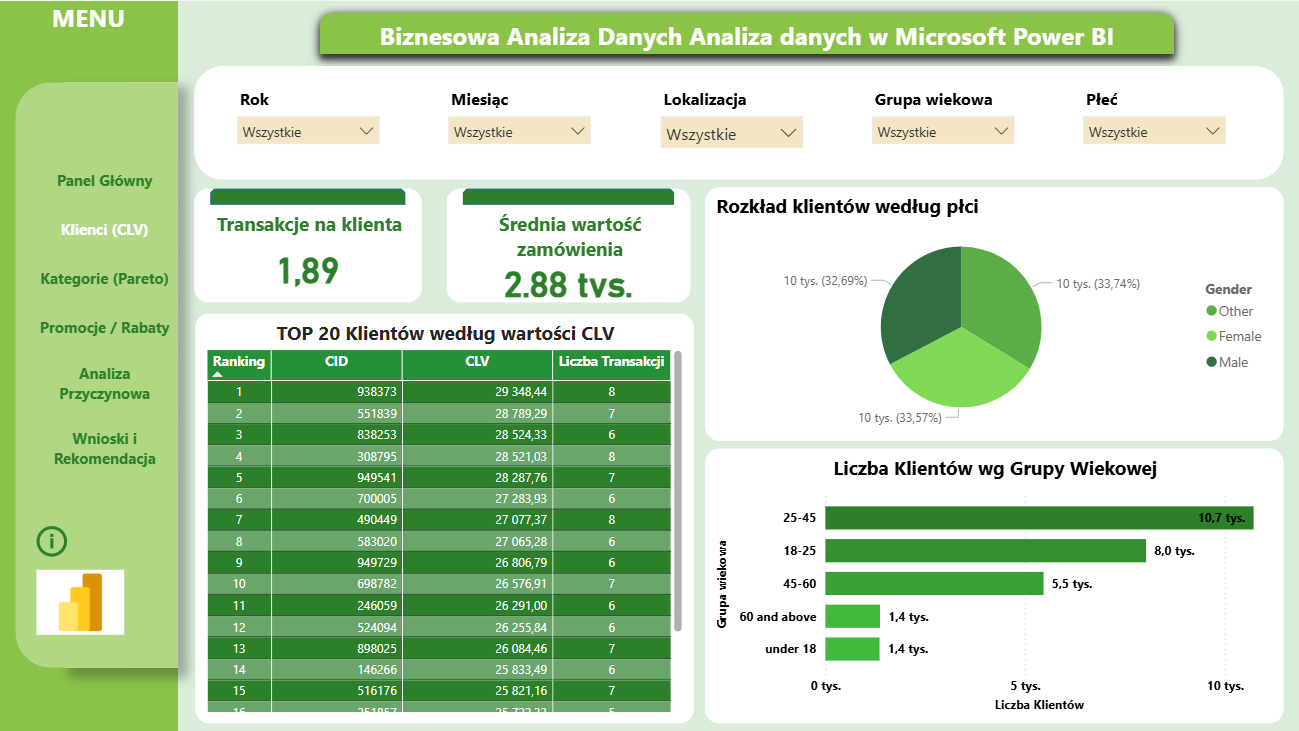

The dashboard page shown, as its layout file describes it:
{"tool":"powerbi","page":{"name":"Klienci (CLV)","canvas":[1280,720],"ordinal":2},"visuals":[{"type":"shape","title":"MENU","box":[0,0,176,720],"z":0,"group":"g2"},{"type":"shape","title":"naglowek","box":[304,0,864,64],"z":0},{"type":"actionButton","title":"Wnioski i Rekomendacja","box":[32,416,144,48],"z":0,"group":"g1"},{"type":"shape","title":"filtry","box":[192,64,1072,112],"z":1000},{"type":"shape","title":"boczny pasek2","box":[64,80,112,576],"z":1000,"group":"g2"},{"type":"actionButton","title":"insight","box":[32,352,144,48],"z":1000,"group":"g1"},{"type":"shape","title":"boczny pasek1","box":[16,80,144,576],"z":2000,"group":"g2"},{"type":"slicer","title":"kategoria prouktu","fields":{"Values":["Klient.Gender"]},"box":[1056,80,160,80],"z":2000},{"type":"actionButton","title":"promocje i rabaty","box":[32,304,144,32],"z":2000,"group":"g1"},{"type":"slicer","title":"lokalizacja","fields":{"Values":["Lokalizacja.Location"]},"box":[640,80,160,80],"z":3000},{"type":"actionButton","title":"Pereto","box":[32,256,144,32],"z":3000,"group":"g1"},{"type":"image","title":"logo","box":[32,544,96,96],"z":3000,"group":"g2"},{"type":"slicer","title":"miesiac","fields":{"Values":["Kalendarz.MonthName"]},"box":[432,80,160,80],"z":4000},{"type":"group","id":"g1","title":"strony","box":[32,160,144,392],"z":4000,"group":"g2"},{"type":"actionButton","title":"klienci","box":[32,208,144,32],"z":4000,"group":"g1"},{"type":"slicer","title":"rok","fields":{"Values":["Kalendarz.Year"]},"box":[224,80,160,80],"z":5000},{"type":"actionButton","title":"Panel","box":[32,160,144,32],"z":5000,"group":"g1"},{"type":"slicer","title":"Rabat","fields":{"Values":["Klient.Age Group"]},"box":[848,80,160,80],"z":6000},{"type":"actionButton","title":"info","box":[32,512,40,40],"z":6000,"group":"g1"},{"type":"card","title":"Średnia wartość zamówienia ","fields":{"Values":["Sprzedaz.Średnia wartość zamówienia"]},"box":[440,184,240,112],"z":7000},{"type":"shape","title":"nakladka na kpi","box":[456,184,208,16],"z":8000},{"type":"card","title":"Transakcje na klienta","fields":{"Values":["Sprzedaz.Transakcje na Klienta"]},"box":[192,184,224,112],"z":9000},{"type":"shape","title":"nakladka na kpi","box":[208,184,192,16],"z":10000},{"type":"group","id":"g2","title":"Menu","box":[0,0,176,720],"z":11000},{"type":"pieChart","title":"Rozkład klientów według płci","fields":{"Category":["Klient.Gender"],"Y":["Sprzedaz.Liczba Klientów"]},"box":[694.5,183.2,569.1,249.7],"z":12000},{"type":"tableEx","title":"TOP 20 Klientów według wartości CLV","fields":{"Values":["Sprzedaz.Ranking","Sprzedaz.CID","Sprzedaz.CLV","Sprzedaz.Liczba Transakcji"]},"box":[193,307.5,490.6,403.4],"z":13000},{"type":"barChart","title":"Liczba Klientów wg Grupy Wiekowej","fields":{"Category":["Klient.Age Group"],"Y":["Sprzedaz.Liczba Klientów"]},"box":[694.5,440.5,569.1,270.4],"z":14000}]}

Visuals, with their boxes in screenshot pixels (x1, y1, x2, y2), scaled from the page's 1280x720 canvas onto the 1299x731 screenshot:
"MENU" shape: [left=0, top=0, right=179, bottom=730]
"naglowek" shape: [left=309, top=0, right=1185, bottom=65]
"Wnioski i Rekomendacja" actionButton: [left=32, top=422, right=179, bottom=471]
"filtry" shape: [left=195, top=65, right=1283, bottom=179]
"boczny pasek2" shape: [left=65, top=81, right=179, bottom=666]
"insight" actionButton: [left=32, top=357, right=179, bottom=406]
"boczny pasek1" shape: [left=16, top=81, right=162, bottom=666]
"kategoria prouktu" slicer: [left=1072, top=81, right=1234, bottom=162]
"promocje i rabaty" actionButton: [left=32, top=309, right=179, bottom=341]
"lokalizacja" slicer: [left=650, top=81, right=812, bottom=162]
"Pereto" actionButton: [left=32, top=260, right=179, bottom=292]
"logo" image: [left=32, top=552, right=130, bottom=650]
"miesiac" slicer: [left=438, top=81, right=601, bottom=162]
"strony" group: [left=32, top=162, right=179, bottom=560]
"klienci" actionButton: [left=32, top=211, right=179, bottom=244]
"rok" slicer: [left=227, top=81, right=390, bottom=162]
"Panel" actionButton: [left=32, top=162, right=179, bottom=195]
"Rabat" slicer: [left=861, top=81, right=1023, bottom=162]
"info" actionButton: [left=32, top=520, right=73, bottom=560]
"Średnia wartość zamówienia " card: [left=447, top=187, right=690, bottom=301]
"nakladka na kpi" shape: [left=463, top=187, right=674, bottom=203]
"Transakcje na klienta" card: [left=195, top=187, right=422, bottom=301]
"nakladka na kpi" shape: [left=211, top=187, right=406, bottom=203]
"Menu" group: [left=0, top=0, right=179, bottom=730]
"Rozkład klientów według płci" pieChart: [left=705, top=186, right=1282, bottom=440]
"TOP 20 Klientów według wartości CLV" tableEx: [left=196, top=312, right=694, bottom=722]
"Liczba Klientów wg Grupy Wiekowej" barChart: [left=705, top=447, right=1282, bottom=722]
